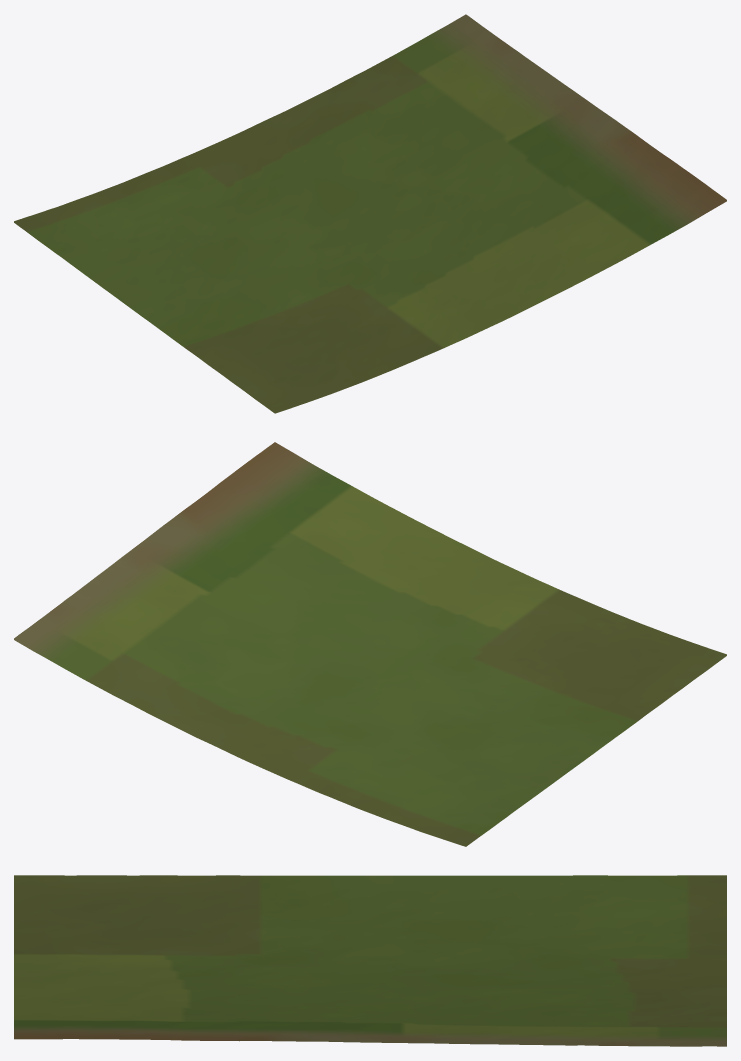
File: land_n_03_03.glb
3 views of the same model, one above another, from view 1: azimuth 30°, elevation 25°; view 2: azimuth 150°, elevation 25°; view 3: azimuth 270°, elevation 25° (orthographic). The views are drawn at different scales.
Parts seen in each view (by area): view 1: land_n_03_03; view 2: land_n_03_03; view 3: land_n_03_03.
Part boxes in pixels (left/top/right/bottom): land_n_03_03: left=14, top=14, right=726, bottom=413; land_n_03_03: left=14, top=442, right=726, bottom=846; land_n_03_03: left=14, top=875, right=726, bottom=1046.
Size of the model in its own units: 480 by 106 by 480.
